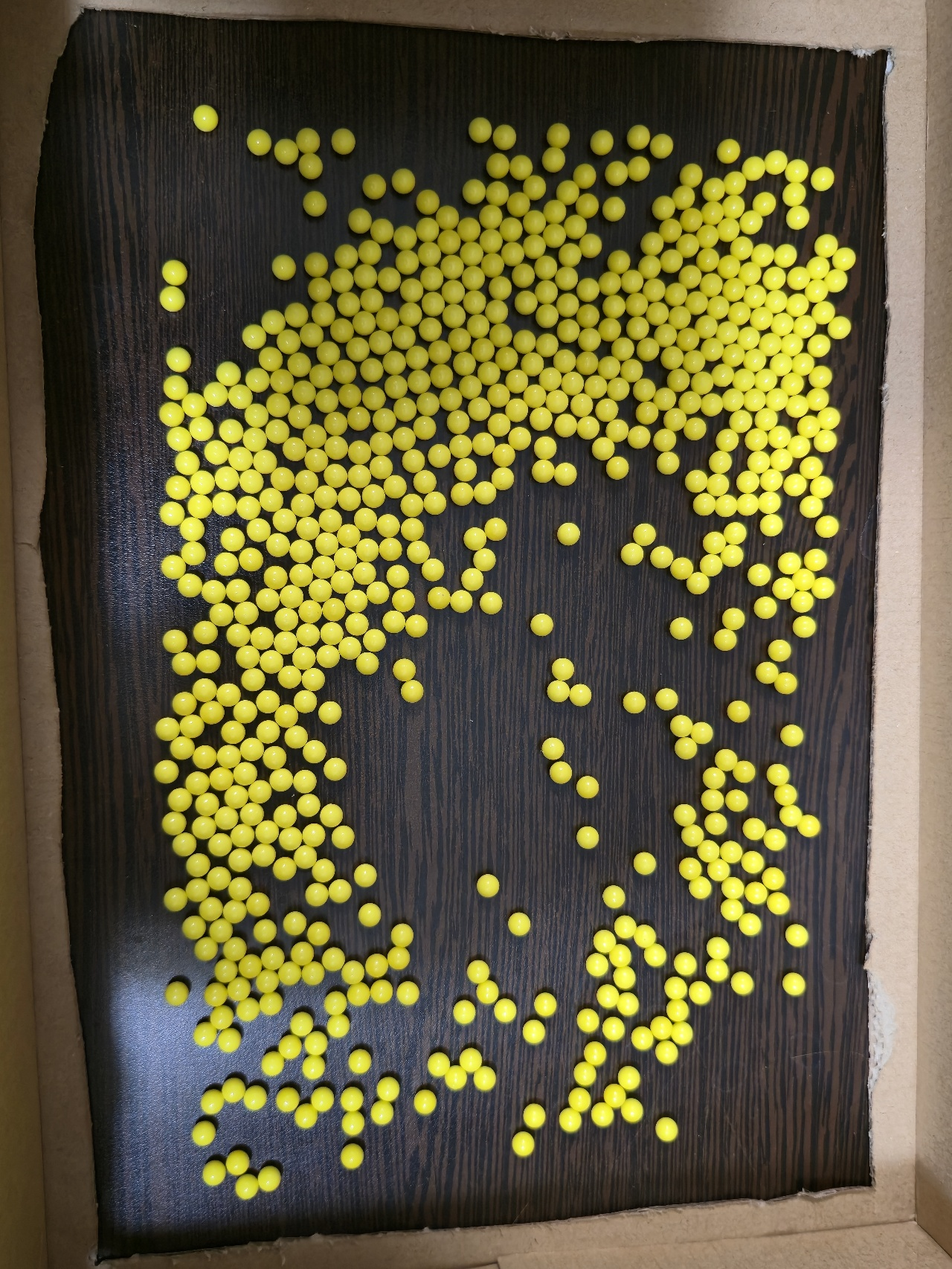yellow_bead: (234, 452, 248, 466), (169, 381, 183, 395), (185, 523, 199, 536), (265, 493, 278, 507), (196, 476, 210, 489), (220, 472, 234, 485), (248, 433, 262, 446), (251, 373, 264, 387), (222, 367, 235, 381), (172, 353, 185, 367), (800, 820, 815, 832), (295, 1018, 308, 1031), (327, 953, 340, 966), (214, 838, 227, 851), (183, 579, 196, 592), (220, 558, 233, 571), (187, 547, 200, 560), (226, 533, 239, 546), (302, 522, 315, 535), (278, 514, 291, 527), (242, 501, 255, 514), (193, 500, 206, 513), (218, 498, 231, 511), (245, 475, 258, 488), (181, 456, 194, 469), (210, 446, 223, 459), (272, 399, 285, 412), (267, 316, 280, 329), (817, 306, 830, 319), (168, 266, 181, 279), (623, 1071, 635, 1085), (433, 1058, 445, 1072), (465, 1053, 477, 1067), (528, 1025, 540, 1039), (694, 986, 706, 1000), (205, 902, 217, 916), (239, 607, 253, 619), (252, 524, 266, 536), (167, 507, 179, 521), (661, 1122, 672, 1137), (479, 1072, 491, 1085), (310, 1037, 322, 1050), (637, 1032, 649, 1045), (608, 1022, 620, 1035), (602, 990, 614, 1003), (402, 987, 414, 1000), (788, 978, 800, 991), (347, 966, 359, 979), (680, 958, 692, 971), (513, 918, 525, 931), (311, 888, 323, 901), (334, 884, 346, 897), (234, 855, 247, 867), (178, 838, 190, 851), (769, 834, 782, 846), (261, 826, 274, 838), (168, 817, 181, 829), (220, 812, 233, 824), (326, 809, 338, 822), (275, 774, 288, 786), (160, 765, 173, 777), (299, 695, 312, 707), (247, 674, 260, 686), (199, 626, 212, 638), (215, 608, 228, 620), (295, 545, 308, 557), (343, 492, 356, 504), (319, 491, 332, 503), (789, 479, 802, 491), (300, 475, 313, 487), (276, 472, 289, 484), (329, 469, 342, 481), (259, 455, 271, 468), (310, 454, 323, 466), (271, 425, 284, 437), (225, 425, 238, 437), (250, 409, 263, 421), (511, 404, 523, 417), (235, 390, 247, 403), (210, 388, 222, 401), (833, 322, 846, 334), (830, 274, 842, 287), (768, 272, 780, 285), (837, 253, 850, 265), (748, 162, 760, 175), (518, 1137, 529, 1151), (500, 1004, 511, 1018), (623, 997, 634, 1011), (245, 743, 259, 754), (771, 155, 782, 169), (670, 982, 682, 994), (736, 977, 748, 989), (591, 959, 603, 971), (267, 952, 279, 964), (649, 950, 661, 962), (599, 935, 611, 947), (791, 930, 803, 942), (744, 919, 756, 931), (747, 856, 759, 868), (300, 851, 312, 863), (284, 833, 296, 845), (582, 832, 594, 844), (337, 831, 349, 843), (748, 823, 760, 835), (230, 791, 242, 803), (329, 763, 341, 775), (290, 731, 302, 743), (324, 707, 336, 719), (262, 695, 274, 707), (242, 651, 254, 663), (326, 628, 338, 640), (208, 585, 220, 597), (818, 582, 830, 594), (336, 576, 348, 588), (382, 520, 394, 532), (805, 501, 817, 513), (721, 500, 733, 512), (297, 499, 309, 511), (764, 497, 776, 509), (367, 489, 379, 501), (172, 481, 184, 493), (353, 470, 365, 482), (460, 463, 472, 475), (375, 461, 387, 473), (455, 440, 467, 452), (659, 434, 671, 446), (196, 422, 208, 434), (294, 411, 306, 423), (820, 240, 832, 252), (788, 188, 800, 200), (817, 173, 829, 185), (565, 1114, 576, 1127), (529, 1109, 540, 1122), (459, 1006, 470, 1019), (711, 966, 724, 977), (620, 921, 631, 934), (318, 864, 329, 877), (192, 859, 203, 872), (257, 850, 270, 861), (279, 810, 292, 821), (309, 745, 320, 758), (322, 651, 335, 662), (168, 635, 181, 646), (302, 629, 315, 640), (232, 629, 245, 640), (271, 539, 284, 550), (821, 521, 834, 532), (765, 520, 778, 531), (324, 515, 337, 526), (434, 449, 445, 462), (330, 441, 343, 452), (819, 435, 832, 446), (760, 414, 773, 425), (786, 379, 799, 390), (814, 371, 827, 382), (264, 353, 277, 364), (765, 338, 776, 351), (169, 292, 179, 306), (451, 1073, 462, 1085), (661, 1047, 672, 1059), (243, 1004, 254, 1016), (329, 998, 341, 1009), (473, 966, 484, 978), (713, 942, 724, 954), (640, 930, 651, 942), (259, 925, 271, 936), (216, 925, 227, 937), (188, 922, 199, 934), (364, 908, 376, 919), (170, 893, 181, 905), (727, 882, 739, 893), (234, 882, 246, 893), (483, 880, 494, 892), (768, 873, 780, 884), (359, 870, 371, 881), (640, 858, 651, 870), (679, 809, 691, 820), (201, 798, 213, 809), (254, 786, 266, 797), (773, 769, 785, 780), (547, 743, 559, 754), (262, 726, 274, 737), (307, 673, 319, 684), (266, 655, 277, 667), (298, 652, 310, 663), (344, 642, 356, 653), (368, 634, 380, 645), (256, 632, 268, 643), (675, 623, 687, 634), (799, 621, 811, 632), (351, 619, 363, 630), (280, 614, 292, 625), (759, 602, 771, 613), (286, 591, 298, 602), (778, 583, 790, 594), (392, 571, 404, 582), (753, 569, 765, 580), (358, 568, 370, 579), (706, 559, 717, 571), (784, 558, 796, 569), (810, 554, 822, 565), (627, 548, 638, 560), (321, 538, 333, 549), (639, 529, 650, 541), (563, 528, 574, 540), (730, 527, 741, 539), (480, 487, 491, 499), (816, 481, 828, 492), (742, 476, 754, 487), (691, 475, 702, 487), (419, 475, 431, 486), (663, 457, 674, 469), (753, 457, 765, 468), (715, 457, 727, 468), (776, 454, 787, 466), (408, 454, 419, 466), (354, 446, 366, 457), (289, 443, 301, 454), (539, 442, 551, 453), (376, 437, 387, 449), (515, 432, 526, 444), (634, 431, 645, 443), (583, 422, 594, 434), (735, 416, 747, 427), (823, 413, 835, 424), (536, 413, 547, 425), (400, 403, 411, 415), (576, 399, 588, 410), (775, 359, 787, 370), (813, 340, 825, 351), (777, 318, 788, 330), (757, 312, 768, 324), (291, 309, 302, 321), (384, 1083, 394, 1096), (785, 811, 798, 821), (314, 585, 327, 595), (339, 553, 352, 563), (167, 561, 181, 570), (355, 1058, 366, 1069), (540, 998, 551, 1009), (727, 905, 738, 916), (192, 884, 203, 895), (713, 865, 724, 876), (198, 822, 209, 833), (710, 818, 721, 829), (707, 795, 718, 806), (721, 754, 732, 765), (681, 743, 692, 754), (787, 730, 798, 741), (661, 694, 672, 705), (575, 690, 586, 701), (536, 619, 547, 630), (728, 614, 739, 625), (486, 597, 497, 608), (456, 596, 467, 607), (727, 550, 738, 561), (470, 533, 481, 544), (742, 499, 753, 510), (699, 498, 710, 509), (457, 488, 468, 499), (538, 465, 549, 476), (598, 443, 609, 454), (794, 441, 805, 452), (478, 438, 489, 449), (751, 434, 762, 445), (722, 434, 733, 445), (399, 433, 410, 444), (494, 419, 505, 430), (379, 414, 390, 425), (602, 404, 613, 415), (474, 403, 485, 414), (792, 401, 803, 412), (423, 398, 434, 409), (552, 396, 563, 407), (728, 394, 739, 405), (591, 381, 602, 392), (568, 377, 579, 388), (545, 373, 556, 384), (367, 364, 378, 375), (263, 1176, 275, 1186), (678, 1028, 688, 1040), (396, 929, 408, 939), (695, 883, 707, 893), (213, 872, 225, 882), (279, 863, 291, 873), (727, 846, 737, 858), (704, 845, 714, 857), (237, 830, 249, 840), (708, 773, 720, 783), (697, 727, 707, 739), (161, 723, 173, 733), (628, 697, 640, 707), (553, 686, 565, 696), (262, 594, 274, 604), (692, 578, 704, 588), (412, 546, 424, 556), (343, 530, 355, 540), (360, 513, 372, 523), (714, 479, 724, 491), (174, 432, 186, 442), (813, 393, 823, 405), (772, 393, 782, 405), (772, 295, 782, 307), (781, 249, 791, 261), (280, 147, 292, 157), (585, 1014, 594, 1027), (222, 689, 235, 698), (198, 684, 211, 693), (295, 569, 308, 578), (598, 1111, 608, 1122), (267, 1061, 278, 1071), (171, 989, 181, 1000), (619, 973, 630, 983), (775, 899, 785, 910), (687, 831, 698, 841), (733, 795, 743, 806), (558, 664, 568, 675), (775, 645, 785, 656), (797, 597, 808, 607), (709, 537, 720, 547), (429, 497, 440, 507), (612, 425, 623, 435), (561, 420, 571, 431), (453, 416, 464, 426), (671, 414, 681, 425), (708, 399, 718, 410), (750, 394, 760, 405), (740, 374, 750, 385), (718, 370, 728, 381), (295, 359, 305, 370), (751, 355, 761, 366), (283, 335, 294, 345), (279, 262, 289, 273), (628, 1104, 637, 1116), (579, 1070, 591, 1079), (309, 968, 318, 980), (617, 950, 626, 962), (303, 803, 315, 812), (239, 768, 251, 777), (268, 755, 280, 764), (361, 658, 373, 667), (202, 655, 214, 664), (388, 616, 400, 625), (372, 587, 384, 596), (406, 499, 418, 508), (389, 481, 401, 490), (497, 473, 509, 482), (309, 430, 321, 439), (323, 395, 332, 407), (339, 274, 348, 286), (759, 249, 768, 261), (245, 812, 258, 820), (235, 985, 245, 995), (201, 944, 211, 954), (229, 943, 239, 953), (314, 927, 324, 937), (531, 390, 541, 400), (300, 387, 310, 397), (560, 355, 570, 365), (563, 273, 573, 283), (250, 1092, 261, 1101), (582, 782, 593, 791), (191, 777, 202, 786), (186, 720, 197, 729), (399, 664, 410, 673), (722, 634, 731, 645), (304, 605, 315, 614), (428, 564, 439, 573), (692, 423, 701, 434), (190, 399, 201, 408), (687, 397, 696, 408), (662, 393, 671, 404), (393, 381, 402, 392), (544, 339, 553, 350), (377, 336, 386, 347), (663, 330, 672, 341), (306, 329, 317, 338), (724, 327, 733, 338), (794, 299, 803, 310), (431, 298, 440, 309), (585, 284, 594, 295), (361, 271, 372, 280), (747, 268, 756, 279), (286, 968, 294, 980), (228, 907, 240, 915), (754, 887, 762, 899), (174, 794, 186, 802), (299, 780, 311, 788), (222, 751, 234, 759), (239, 706, 251, 714), (178, 658, 190, 666), (407, 524, 419, 532), (805, 462, 817, 470), (759, 199, 771, 207), (348, 1096, 358, 1105), (216, 1015, 226, 1024), (266, 1001, 276, 1010), (263, 977, 273, 986), (783, 790, 792, 800), (178, 698, 188, 707), (412, 620, 422, 629), (800, 574, 809, 584), (420, 422, 430, 431), (640, 384, 650, 393), (615, 383, 624, 393), (390, 358, 400, 367), (401, 332, 410, 342), (361, 318, 370, 328), (407, 308, 416, 318), (493, 306, 503, 315), (451, 287, 460, 297), (708, 279, 717, 289), (629, 276, 638, 286), (470, 273, 479, 283), (449, 262, 458, 272), (660, 202, 669, 212), (232, 1162, 243, 1170), (688, 863, 696, 874), (228, 726, 239, 734), (784, 678, 792, 689), (329, 603, 340, 611), (434, 592, 445, 600), (467, 577, 478, 585), (385, 543, 396, 551), (560, 472, 571, 480), (515, 375, 523, 386), (487, 367, 495, 378), (530, 358, 538, 369), (710, 344, 718, 355), (452, 310, 460, 321), (652, 284, 660, 295), (410, 284, 418, 295), (308, 833, 320, 840), (280, 640, 292, 647), (373, 960, 382, 969), (254, 898, 263, 907), (741, 766, 750, 775), (283, 710, 292, 719), (614, 462, 623, 471), (332, 419, 341, 428), (324, 347, 333, 356), (725, 225, 734, 234), (307, 161, 316, 170), (348, 1154, 358, 1162), (577, 1096, 585, 1106), (658, 1024, 666, 1034), (223, 966, 231, 976), (298, 947, 306, 957), (736, 706, 744, 716), (271, 571, 281, 579), (678, 563, 688, 571), (416, 376, 424, 386), (607, 362, 615, 372), (428, 324, 436, 334), (476, 320, 484, 330), (655, 308, 663, 318), (321, 308, 329, 318), (346, 298, 354, 308), (545, 286, 553, 296), (387, 274, 395, 284), (670, 255, 678, 265), (426, 224, 434, 234), (791, 214, 799, 224), (636, 162, 644, 172), (479, 558, 490, 565), (701, 377, 708, 388), (320, 370, 327, 381), (357, 344, 364, 355), (705, 321, 712, 332), (648, 261, 655, 272), (740, 242, 747, 253), (321, 1093, 329, 1102), (675, 1008, 684, 1016), (379, 986, 387, 995), (608, 891, 620, 897), (399, 594, 408, 602), (237, 588, 245, 597), (656, 556, 668, 562), (501, 449, 509, 458), (371, 393, 379, 402), (276, 379, 288, 385), (631, 364, 637, 376), (522, 336, 530, 345), (716, 302, 724, 311), (612, 301, 620, 310), (565, 300, 573, 309), (524, 297, 532, 306), (369, 295, 377, 304), (498, 283, 506, 292), (405, 256, 413, 265), (344, 252, 353, 260), (367, 247, 376, 255), (650, 238, 658, 247), (312, 199, 320, 208), (659, 141, 667, 150), (594, 1048, 601, 1058), (226, 1037, 236, 1044), (216, 774, 226, 781), (491, 524, 501, 531), (671, 352, 678, 362), (416, 352, 423, 362), (588, 334, 595, 344), (545, 262, 552, 272), (569, 249, 576, 259), (734, 177, 741, 187), (725, 146, 735, 153), (303, 137, 313, 144), (199, 1130, 210, 1136), (498, 389, 504, 400), (694, 356, 700, 367), (431, 272, 437, 283), (617, 168, 623, 179), (201, 751, 209, 759), (646, 344, 654, 352), (403, 233, 411, 241), (681, 193, 689, 201), (472, 187, 480, 195), (364, 548, 373, 555), (678, 312, 685, 321), (738, 308, 745, 317), (473, 297, 480, 306), (523, 269, 530, 278), (490, 235, 497, 244), (286, 1044, 292, 1054), (451, 393, 457, 403), (470, 382, 476, 392), (254, 334, 260, 344), (637, 323, 643, 333), (547, 311, 553, 321), (429, 248, 435, 258), (590, 240, 596, 250), (504, 132, 510, 142), (323, 565, 330, 573), (646, 408, 653, 416), (586, 358, 593, 366), (689, 272, 696, 280), (358, 216, 365, 224), (490, 212, 497, 220), (613, 205, 620, 213), (600, 137, 608, 144), (637, 132, 644, 140), (623, 343, 628, 354), (353, 600, 362, 606), (358, 413, 364, 422), (568, 326, 574, 335), (471, 249, 477, 258), (534, 242, 540, 251), (575, 222, 581, 231), (713, 184, 719, 193), (512, 223, 517, 233), (463, 360, 470, 367), (533, 183, 540, 190), (341, 138, 348, 145), (396, 954, 404, 960), (292, 923, 300, 929), (208, 707, 216, 713), (512, 249, 518, 257), (521, 162, 527, 170), (553, 155, 559, 163), (480, 126, 486, 134), (423, 1097, 428, 1106), (228, 1085, 237, 1090), (460, 334, 465, 343), (745, 332, 754, 337), (555, 231, 560, 240), (182, 746, 188, 753), (289, 675, 296, 681), (441, 372, 447, 379), (440, 349, 446, 356), (341, 325, 347, 332), (637, 301, 643, 308), (688, 242, 694, 249), (497, 188, 503, 195), (679, 727, 687, 732), (765, 673, 773, 678), (679, 375, 684, 383), (501, 330, 506, 338), (697, 299, 702, 307), (535, 218, 540, 226), (692, 170, 697, 178), (412, 690, 418, 696), (343, 369, 349, 375), (815, 262, 824, 266), (402, 177, 408, 183), (802, 359, 809, 364), (382, 227, 387, 234), (556, 208, 561, 215), (559, 131, 564, 138), (558, 773, 566, 777), (677, 290, 681, 298), (382, 1110, 388, 1115), (315, 1064, 320, 1070), (252, 556, 257, 562), (484, 347, 489, 353), (611, 325, 616, 331), (387, 317, 393, 322), (730, 264, 735, 270), (448, 213, 453, 219), (568, 189, 573, 195), (358, 993, 362, 1000), (771, 475, 778, 479), (808, 421, 815, 425), (710, 256, 714, 263), (203, 122, 210, 126), (488, 987, 493, 992), (320, 287, 325, 292), (315, 261, 320, 266), (708, 234, 713, 239), (585, 172, 590, 177), (214, 992, 218, 998), (167, 408, 175, 411), (508, 355, 512, 361), (250, 330, 258, 333), (590, 312, 594, 318), (736, 286, 739, 294), (611, 280, 615, 286), (621, 258, 625, 264), (714, 209, 718, 215), (498, 163, 504, 167), (350, 393, 354, 398), (689, 337, 694, 341), (494, 262, 498, 267), (672, 228, 676, 233), (469, 227, 474, 231), (375, 183, 379, 188), (754, 290, 760, 293), (207, 1098, 212, 1101), (451, 240, 454, 245), (791, 171, 794, 176), (797, 272, 804, 274), (209, 1169, 213, 1172), (249, 964, 252, 968), (283, 675, 287, 678), (231, 589, 235, 592), (202, 111, 208, 113), (765, 478, 767, 483), (791, 339, 796, 341), (256, 136, 261, 138), (616, 1097, 619, 1100), (521, 202, 524, 205), (430, 200, 432, 204), (218, 1173, 220, 1176), (210, 115, 212, 118), (336, 1023, 341, 1024), (342, 1026, 344, 1028), (289, 923, 291, 925), (800, 322, 802, 324), (796, 165, 800, 166), (263, 141, 265, 143), (203, 1031, 206, 1032), (779, 431, 782, 432), (176, 414, 177, 417), (793, 277, 794, 280), (695, 219, 696, 222), (750, 216, 753, 217), (588, 205, 591, 206), (361, 548, 362, 550), (774, 435, 775, 437), (765, 374, 767, 375), (814, 296, 815, 298), (823, 287, 824, 289), (736, 202, 738, 203), (243, 1184, 244, 1185), (207, 1032, 208, 1033), (799, 820, 800, 821), (176, 747, 177, 748), (676, 724, 677, 725), (783, 432, 784, 433), (187, 403, 188, 404), (209, 392, 210, 393), (770, 375, 771, 376), (760, 294, 761, 295), (811, 292, 812, 293), (818, 285, 819, 286), (797, 284, 798, 285), (796, 283, 797, 284), (804, 275, 805, 276), (796, 273, 797, 274), (750, 228, 751, 229), (745, 221, 746, 222), (754, 217, 755, 218), (748, 217, 749, 218), (796, 212, 797, 213), (799, 211, 800, 212), (800, 166, 801, 167), (794, 166, 795, 167), (358, 1124, 358, 1125), (312, 1064, 313, 1064), (333, 1024, 335, 1024), (556, 771, 556, 773), (407, 690, 408, 690), (762, 671, 762, 672), (167, 565, 167, 566), (171, 486, 172, 486), (732, 350, 736, 350), (805, 321, 807, 321), (752, 292, 753, 292), (814, 286, 815, 286), (794, 281, 794, 282), (794, 275, 794, 276), (813, 266, 814, 266), (794, 213, 795, 213), (263, 139, 263, 140)
